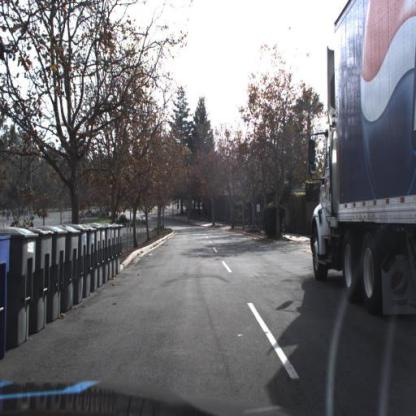truck: (299, 1, 416, 337)
